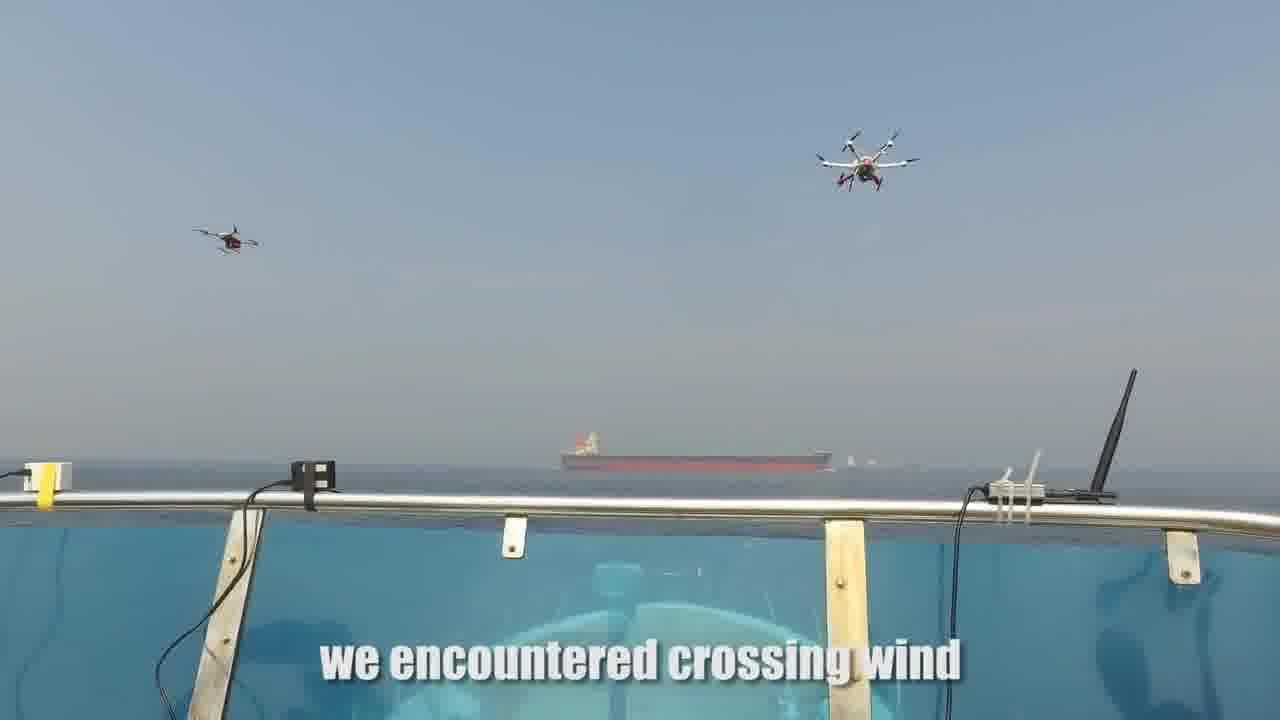drone: (804, 116, 926, 203), (184, 215, 271, 265)
